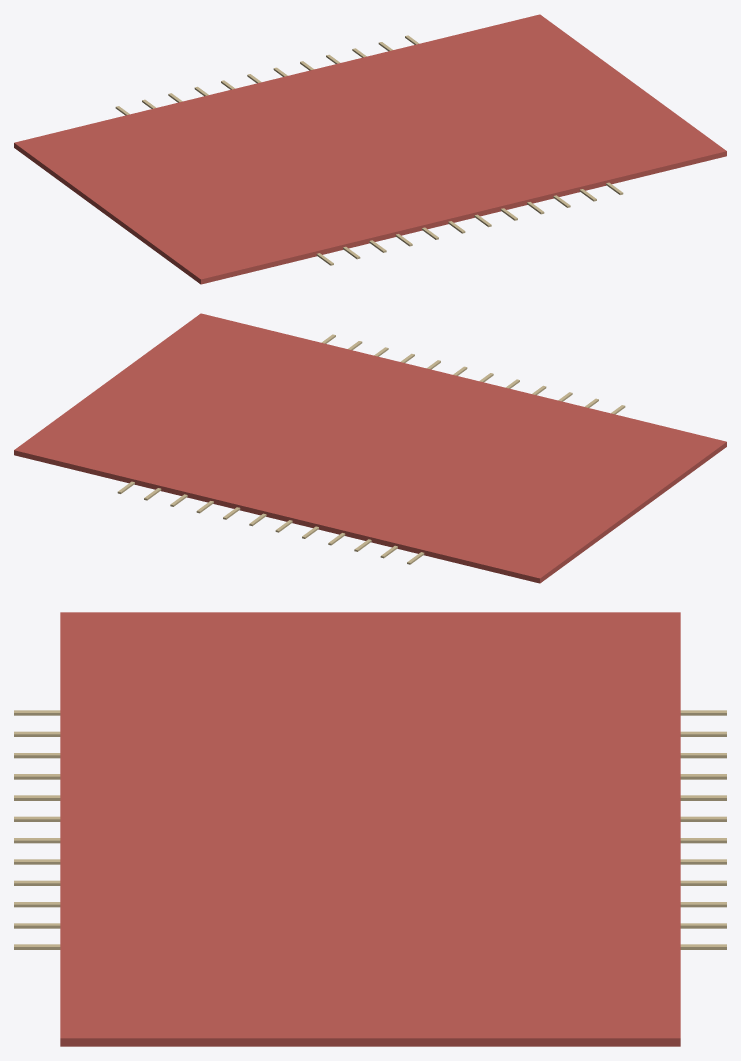
Rendered from kilim_yer.glb.
The picture shows the model from 3 angles, top to bottom: view 1: azimuth 30°, elevation 25°; view 2: azimuth 150°, elevation 25°; view 3: azimuth 270°, elevation 25°; orthographic projection. The views are drawn at different scales.
Visible parts, largest first — view 1: kilim_yer; view 2: kilim_yer; view 3: kilim_yer.
Part boxes in pixels (box(x1,y1,x2,y2)): kilim_yer: box(14, 14, 726, 284); kilim_yer: box(14, 313, 726, 583); kilim_yer: box(14, 612, 726, 1046).
Bounding box in the file's own units: 1.3 × 0.012 × 0.92.
